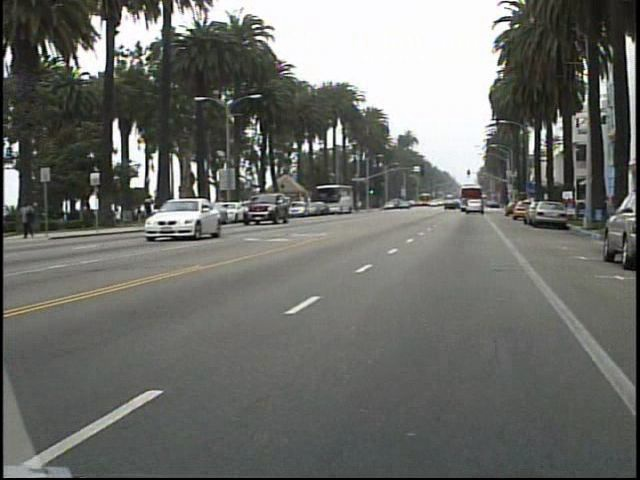person: (25, 195, 47, 240), (146, 191, 165, 225)
